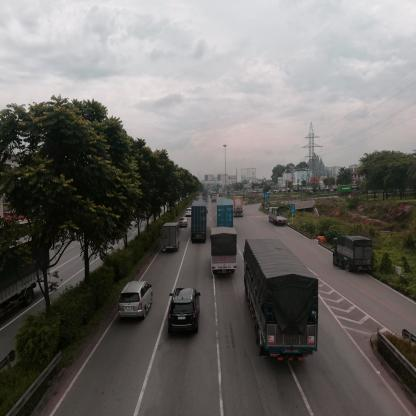car: (169, 289, 201, 335), (120, 282, 153, 317), (181, 219, 188, 229), (188, 210, 192, 218)
container: (193, 201, 207, 245), (218, 201, 234, 228), (338, 186, 363, 198), (235, 199, 243, 217)
truck: (245, 240, 319, 358), (334, 237, 373, 271), (212, 229, 238, 276), (164, 224, 181, 253), (269, 208, 288, 228)
